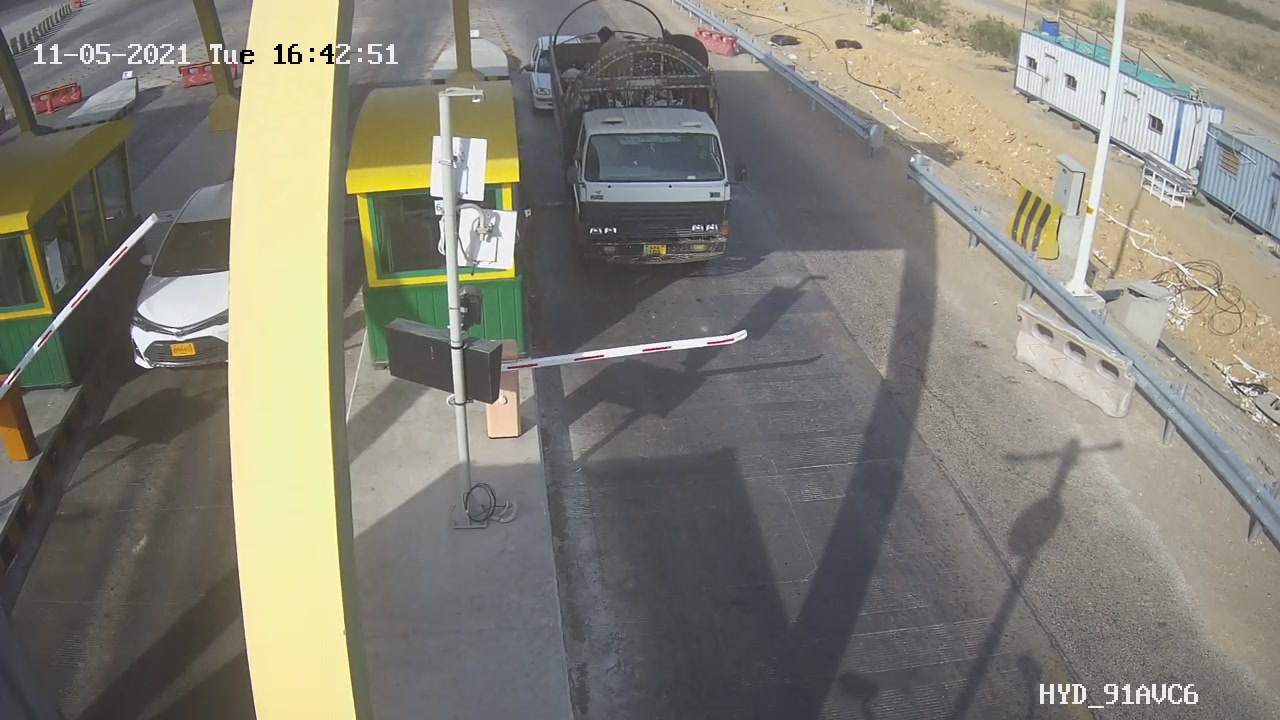F5: (527, 4, 763, 296)
